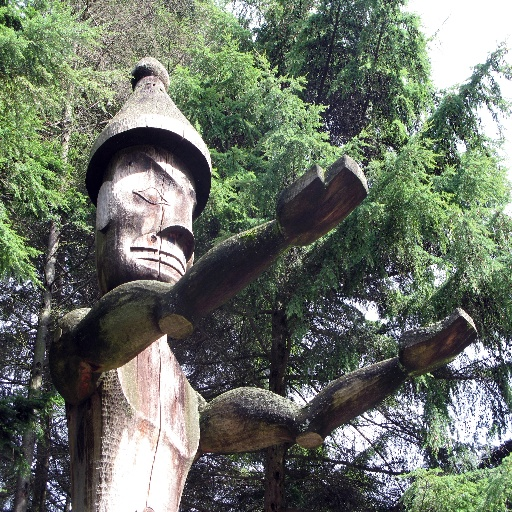hand: (270, 155, 367, 246), (398, 305, 477, 379)
